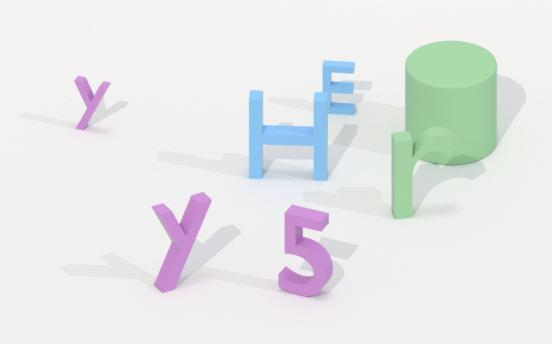chu_khoi: (248, 90, 330, 179), (391, 127, 455, 218), (152, 193, 211, 291), (75, 76, 109, 129), (322, 60, 354, 94)
so_khoi: (278, 205, 332, 296)
tru: (405, 41, 496, 164)
